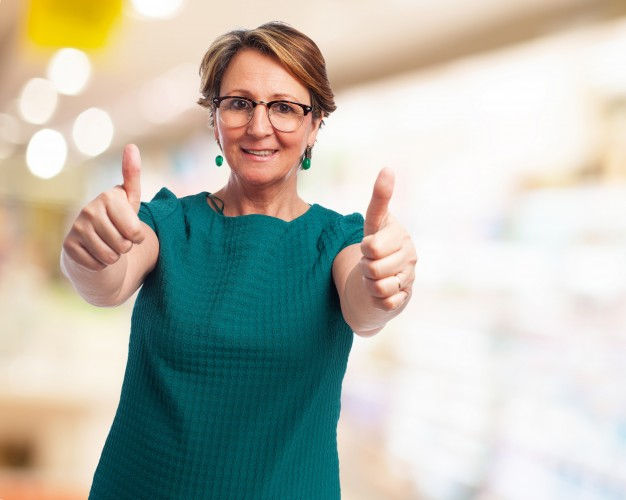thumbsup: (62, 143, 147, 272), (360, 166, 418, 312)
